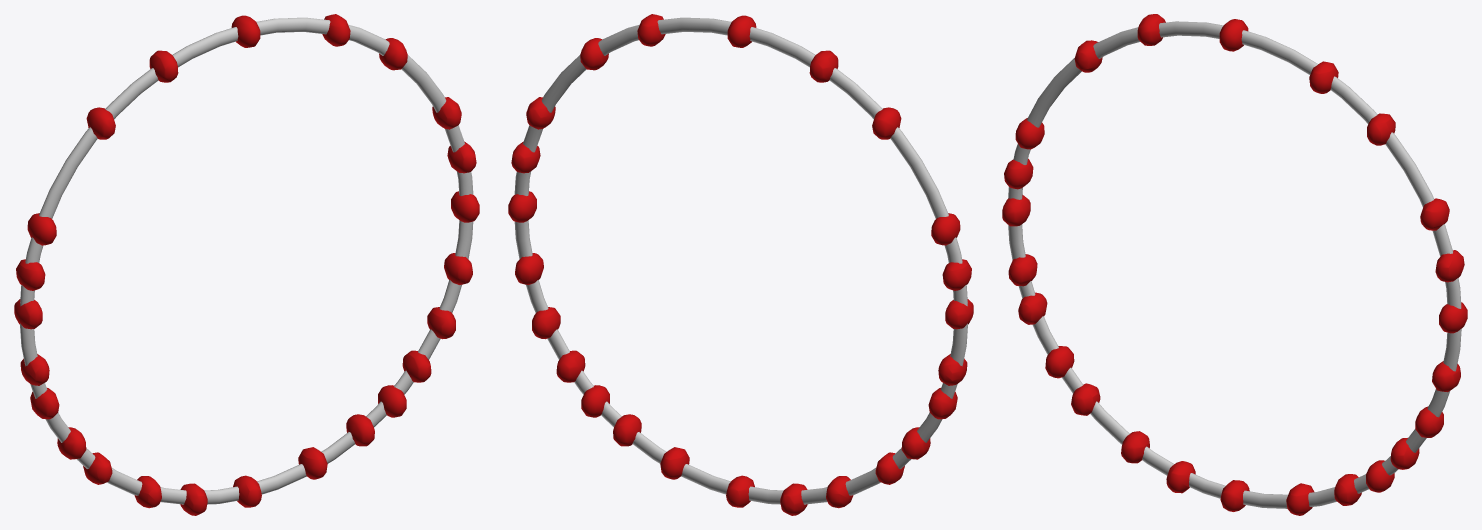
3 renders of one model, left to right at view 1: azimuth 30°, elevation 25°; view 2: azimuth 150°, elevation 25°; view 3: azimuth 330°, elevation 25°, orthographic.
Parts seen in each view (by area): view 1: Electron_Mball, Ring_Torus; view 2: Electron_Mball, Ring_Torus; view 3: Electron_Mball, Ring_Torus.
Boxes of the visible parts, x1,y1,x2,y2 form: Electron_Mball: [14, 14, 479, 515]; Ring_Torus: [20, 17, 473, 504]; Electron_Mball: [508, 14, 973, 515]; Ring_Torus: [514, 17, 967, 504]; Electron_Mball: [1002, 14, 1467, 515]; Ring_Torus: [1008, 21, 1461, 508].
Bounding box in the file's own units: 2.91 × 2.96 × 0.2136.
